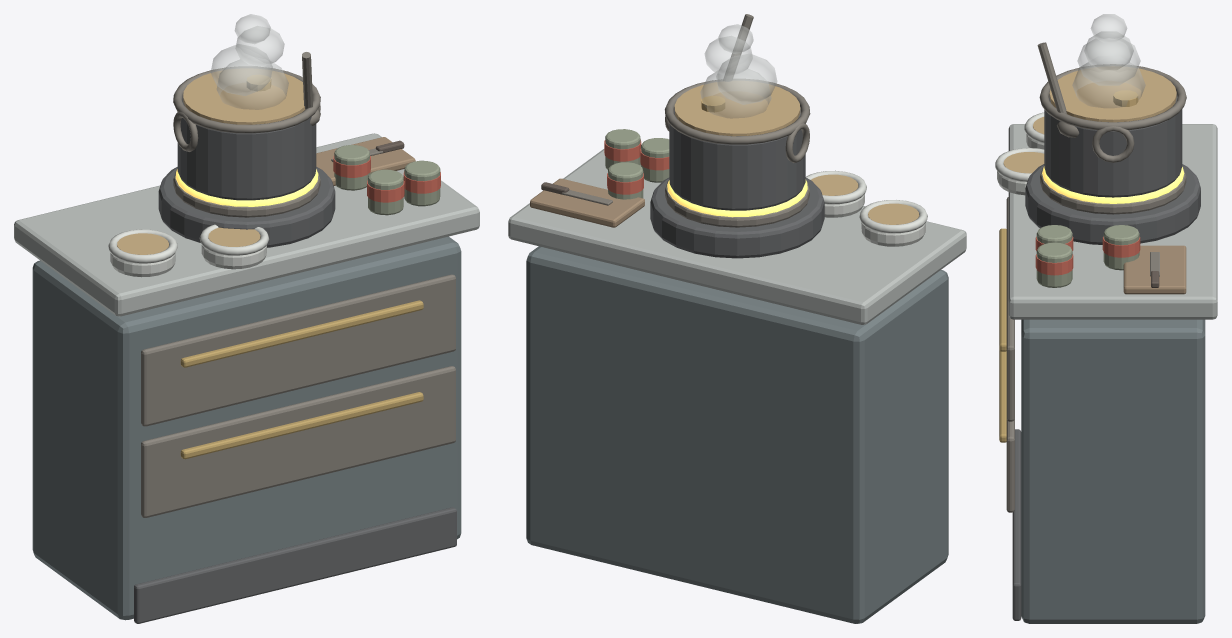
File: food_station.glb
3 views of the same model, side by side, from view 1: azimuth 30°, elevation 25°; view 2: azimuth 150°, elevation 25°; view 3: azimuth 270°, elevation 25° (orthographic).
Visible parts, largest first — view 1: food-station, steam; view 2: food-station, steam; view 3: food-station, steam.
Boxes of the visible parts, left/top/right/bottom form: food-station: left=14, top=52, right=479, bottom=623; steam: left=210, top=14, right=288, bottom=109; food-station: left=508, top=14, right=966, bottom=623; steam: left=700, top=24, right=777, bottom=118; food-station: left=995, top=42, right=1217, bottom=623; steam: left=1072, top=14, right=1145, bottom=107.
Size of the model in its own units: 1 by 1.4 by 0.5322.
